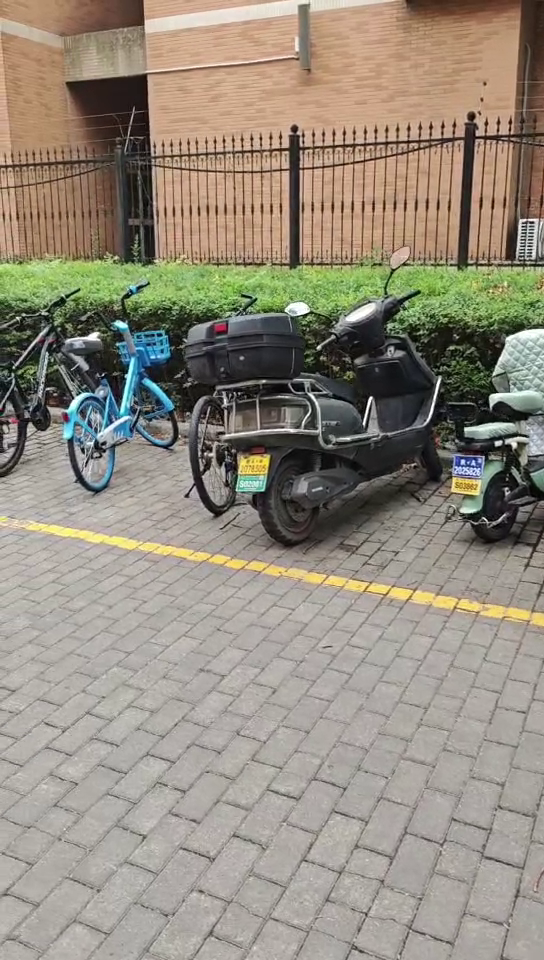others: (195, 290, 419, 534), (454, 321, 544, 568)
shared_bike_haluo: (70, 287, 164, 485)
